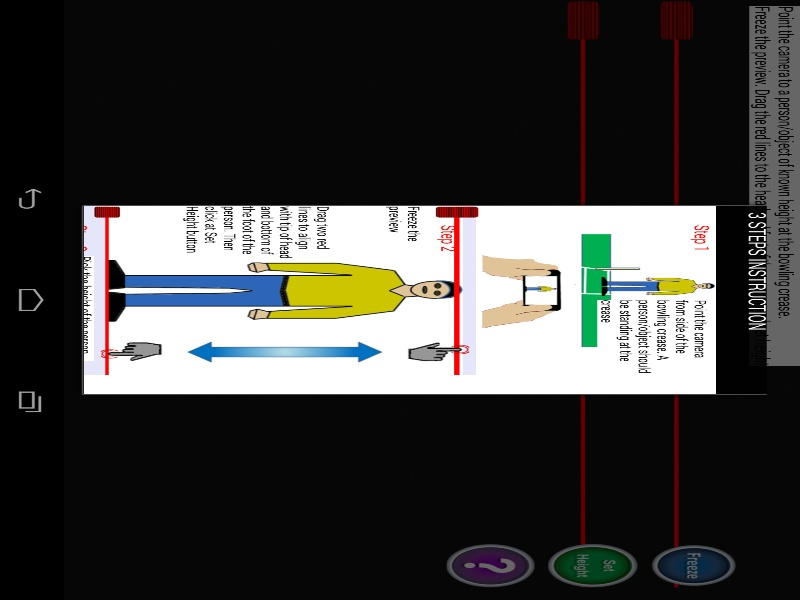Button: (440, 150, 800, 170), (440, 318, 800, 330), (728, 195, 773, 287), (727, 295, 773, 329), (727, 153, 773, 186)
Input: (640, 42, 800, 95), (440, 219, 560, 289), (546, 330, 770, 348), (440, 176, 560, 194)
